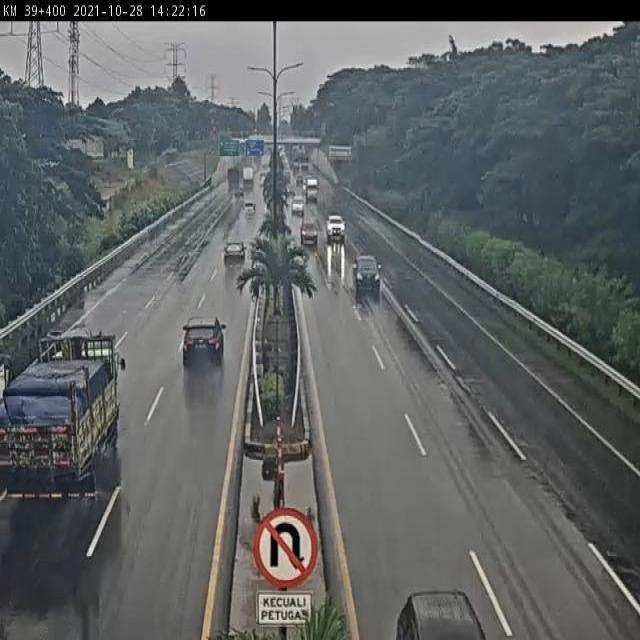car: (181, 313, 226, 371), (351, 250, 383, 294), (220, 237, 248, 272)
truck-l-: (0, 325, 131, 508)
